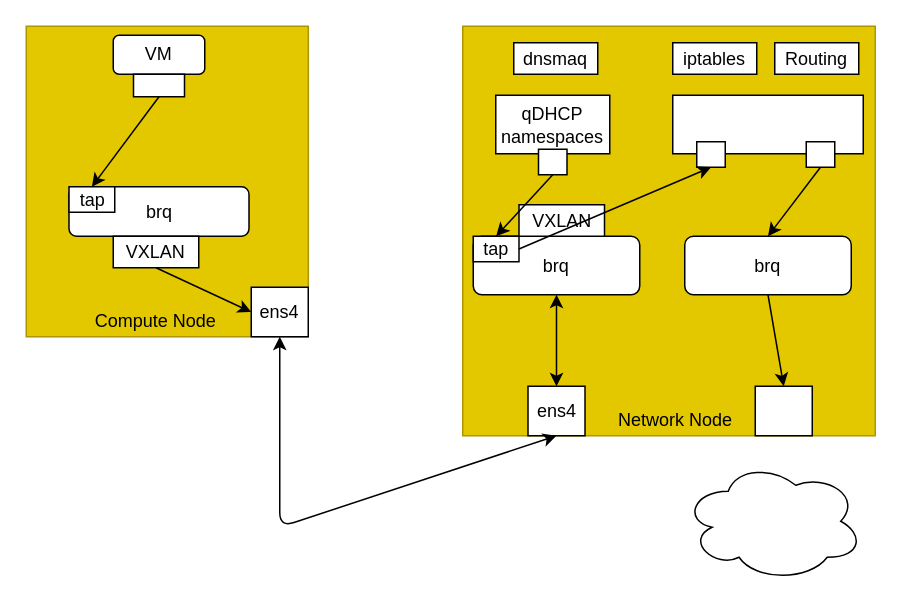
Image size: 902x608. Some labels were removed from this diagram. Here are the shapes that lost their labels. From the top down, the box of each, then its label:
(132, 73, 184, 97): vNIC
(671, 94, 863, 154): qrouter namespaces
(537, 148, 567, 175): ns
(695, 140, 725, 167): qr
(805, 140, 835, 167): qg
(754, 385, 812, 436): ens3
(682, 460, 863, 581): Internet
